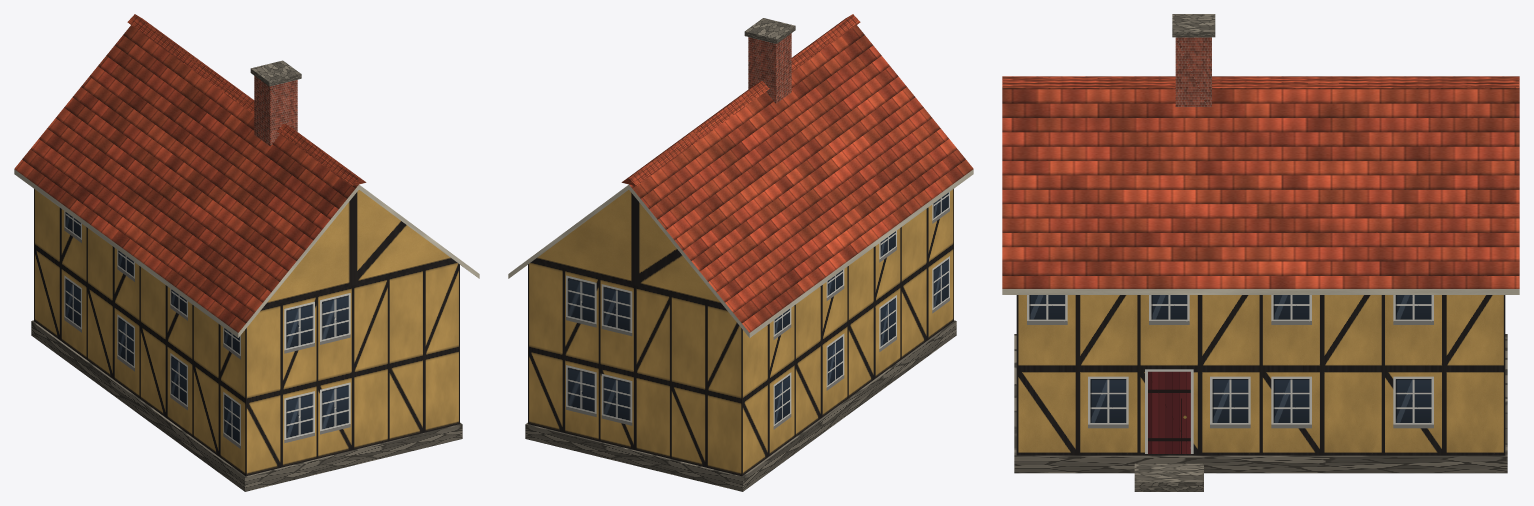
The model's file is SM_TownHouse_Timber.fbx.
The picture shows the model from 3 angles, left to right: view 1: azimuth 30°, elevation 25°; view 2: azimuth 150°, elevation 25°; view 3: azimuth 270°, elevation 25°; orthographic projection. The views are drawn at different scales.
Visible parts, largest first — view 1: SM_TownHouse_Timber; view 2: SM_TownHouse_Timber; view 3: SM_TownHouse_Timber.
Boxes of the visible parts, box(x1,y1,x2,y2) form: SM_TownHouse_Timber: box(14, 14, 479, 491); SM_TownHouse_Timber: box(508, 14, 973, 491); SM_TownHouse_Timber: box(1002, 14, 1519, 491).
Bounding box in the file's own units: 860 × 1270 × 1054.
Materials: 1 (1 with a texture image).
